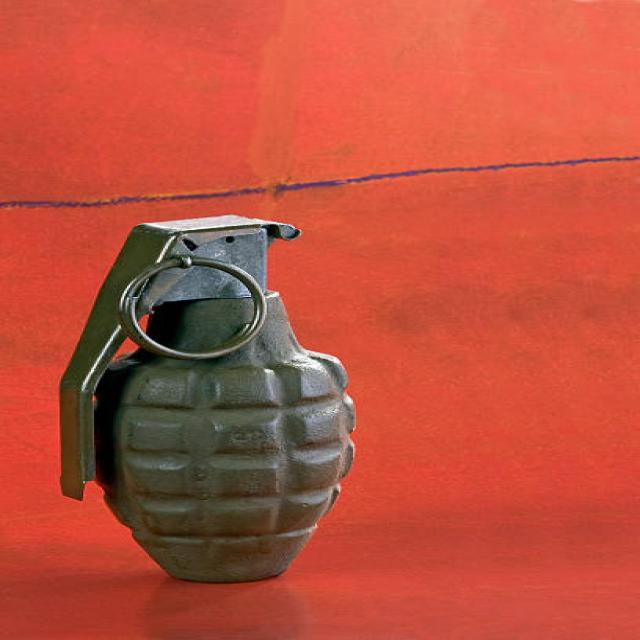grenade: (44, 202, 370, 590)
